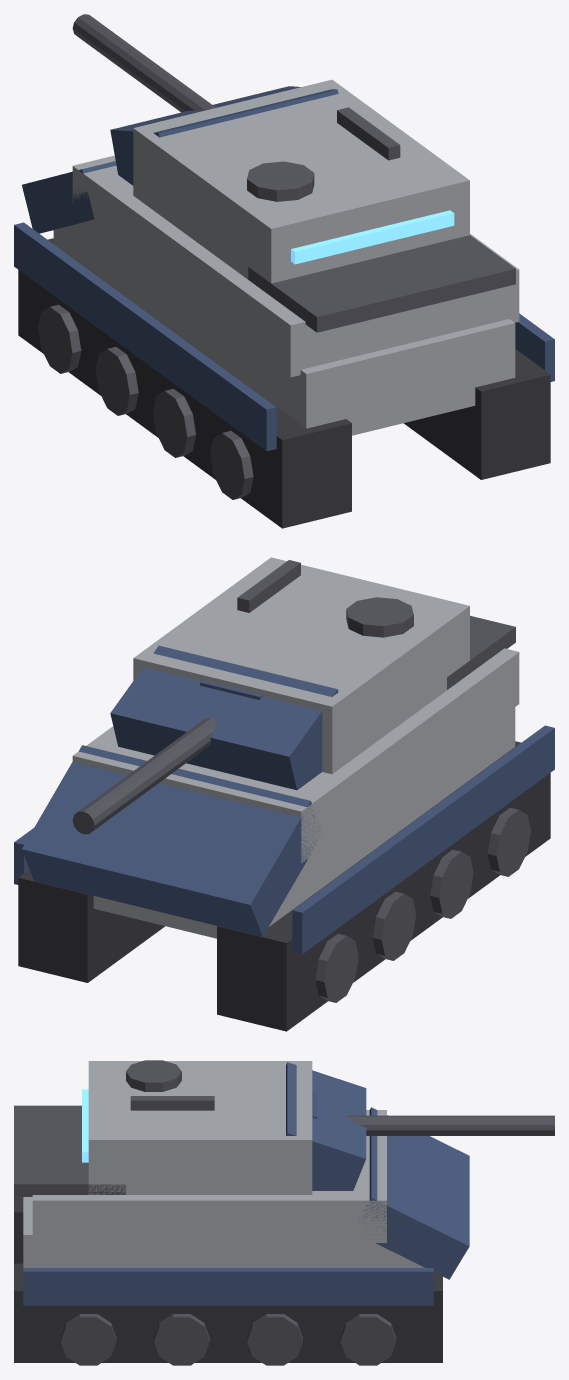
The model's file is us_abramsx.glb.
The picture shows the model from 3 angles, top to bottom: view 1: azimuth 30°, elevation 25°; view 2: azimuth 150°, elevation 25°; view 3: azimuth 270°, elevation 25°; orthographic projection. The views are drawn at different scales.
Parts seen in each view (by area): view 1: Turret, HullLow, HullUp, TrackR, SkirtR, RearDeck, TrackL, Glacis, RoadWheel.002, RoadWheel, RoadWheel.003, RoadWheel.001 (+1 smaller); view 2: Turret, Glacis, HullUp, TrackR, SkirtR, HullLow, TrackL, RoadWheel.001, RoadWheel.003, RoadWheel, RoadWheel.002, RearDeck; view 3: Turret, HullUp, TrackL, SkirtL, Glacis, HullLow, RearDeck, RoadWheel.007, RoadWheel.004, RoadWheel.005, RoadWheel.006, TrackR.
Part boxes in pixels (left/top/right/bottom): Turret: left=72, top=14, right=469, bottom=283; HullLow: left=53, top=223, right=515, bottom=435; HullUp: left=72, top=155, right=519, bottom=377; TrackR: left=18, top=238, right=351, bottom=528; SkirtR: left=14, top=222, right=276, bottom=451; RearDeck: left=248, top=235, right=515, bottom=332; TrackL: left=403, top=349, right=550, bottom=479; Glacis: left=22, top=161, right=116, bottom=233; RoadWheel.002: left=95, top=347, right=138, bottom=415; RoadWheel: left=210, top=431, right=253, bottom=499; RoadWheel.003: left=38, top=304, right=81, bottom=373; RoadWheel.001: left=153, top=388, right=195, bottom=457; Turret: left=72, top=557, right=469, bottom=834; Glacis: left=22, top=745, right=322, bottom=936; HullUp: left=72, top=648, right=519, bottom=863; TrackR: left=217, top=741, right=550, bottom=1031; SkirtR: left=292, top=725, right=554, bottom=954; HullLow: left=93, top=707, right=515, bottom=938; TrackL: left=18, top=869, right=164, bottom=982; RoadWheel.001: left=430, top=850, right=473, bottom=918; RoadWheel.003: left=315, top=934, right=358, bottom=1002; RoadWheel: left=487, top=807, right=530, bottom=876; RoadWheel.002: left=373, top=891, right=415, bottom=960; RearDeck: left=447, top=615, right=515, bottom=689; Turret: left=82, top=1060, right=554, bottom=1194; HullUp: left=32, top=1110, right=386, bottom=1242; TrackL: left=14, top=1263, right=442, bottom=1362; SkirtL: left=23, top=1268, right=433, bottom=1305; Glacis: left=358, top=1107, right=469, bottom=1279; HullLow: left=23, top=1197, right=424, bottom=1267; RearDeck: left=14, top=1105, right=125, bottom=1196; RoadWheel.007: left=340, top=1314, right=396, bottom=1365; RoadWheel.004: left=60, top=1314, right=116, bottom=1365; RoadWheel.005: left=154, top=1314, right=209, bottom=1365; RoadWheel.006: left=247, top=1314, right=302, bottom=1365; TrackR: left=14, top=1197, right=23, bottom=1263.
Bounding box in the file's own units: 2.9 × 2.74 × 5.8.
